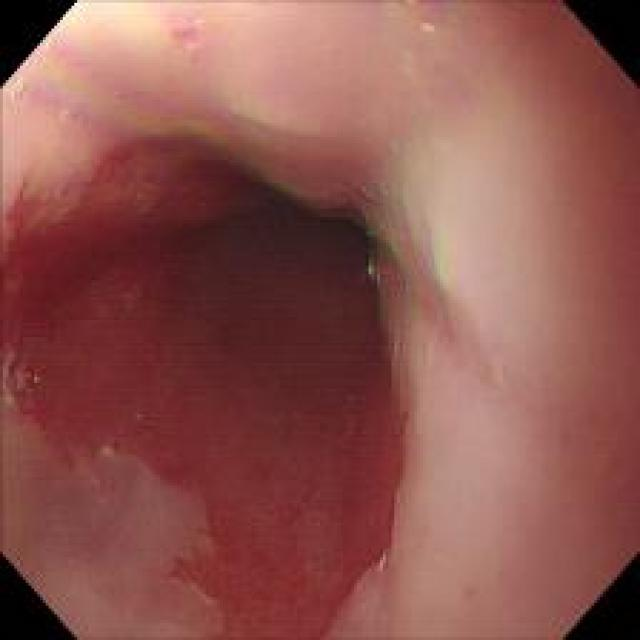bubbles: (10, 79, 35, 106)
color misalignment: (378, 204, 450, 319), (5, 346, 44, 416), (392, 1, 461, 39), (364, 224, 389, 324), (339, 176, 384, 229), (256, 169, 302, 202), (389, 342, 405, 394)
